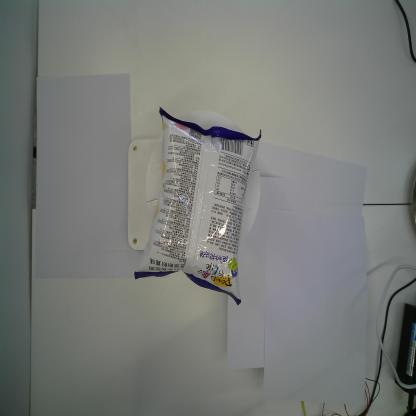Puffed Food: (134, 106, 262, 306)
